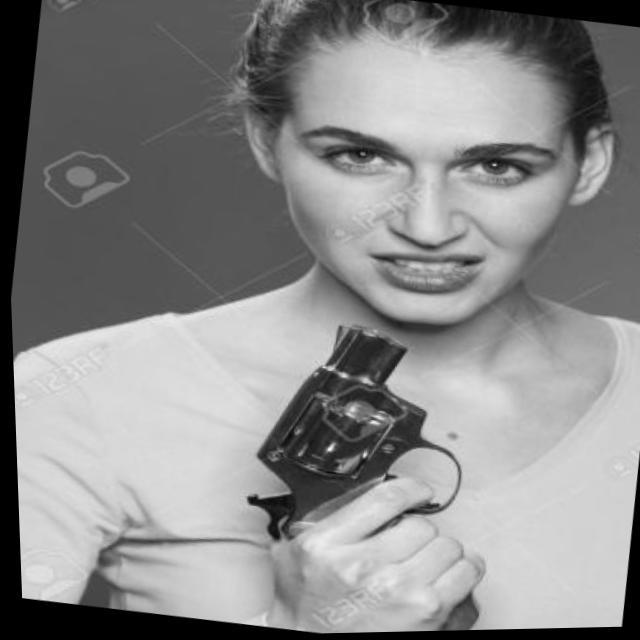weapon: (211, 298, 520, 636)
